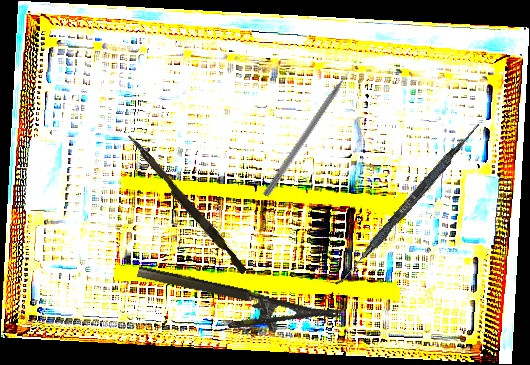Needle Holder: (130, 263, 342, 352)
Pusher: (122, 133, 251, 275), (262, 58, 361, 199)
Spatula Surgical: (334, 119, 482, 291)
